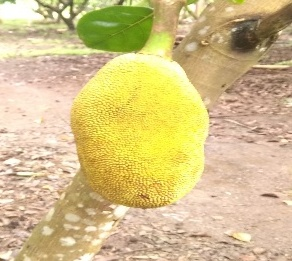Mit: (71, 53, 209, 209)
